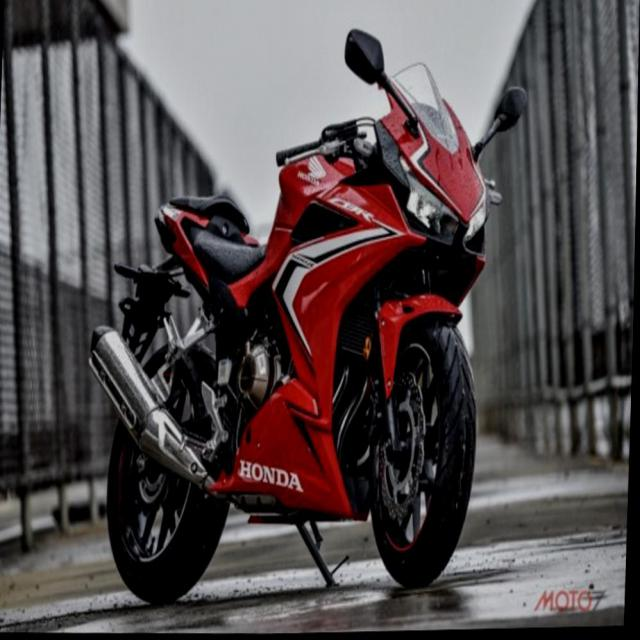CBR500R: (81, 17, 531, 615)
